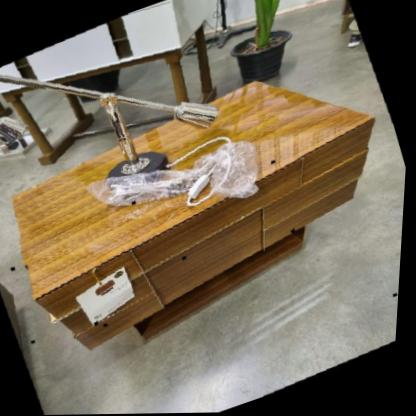Nightstand: (0, 62, 413, 361)
